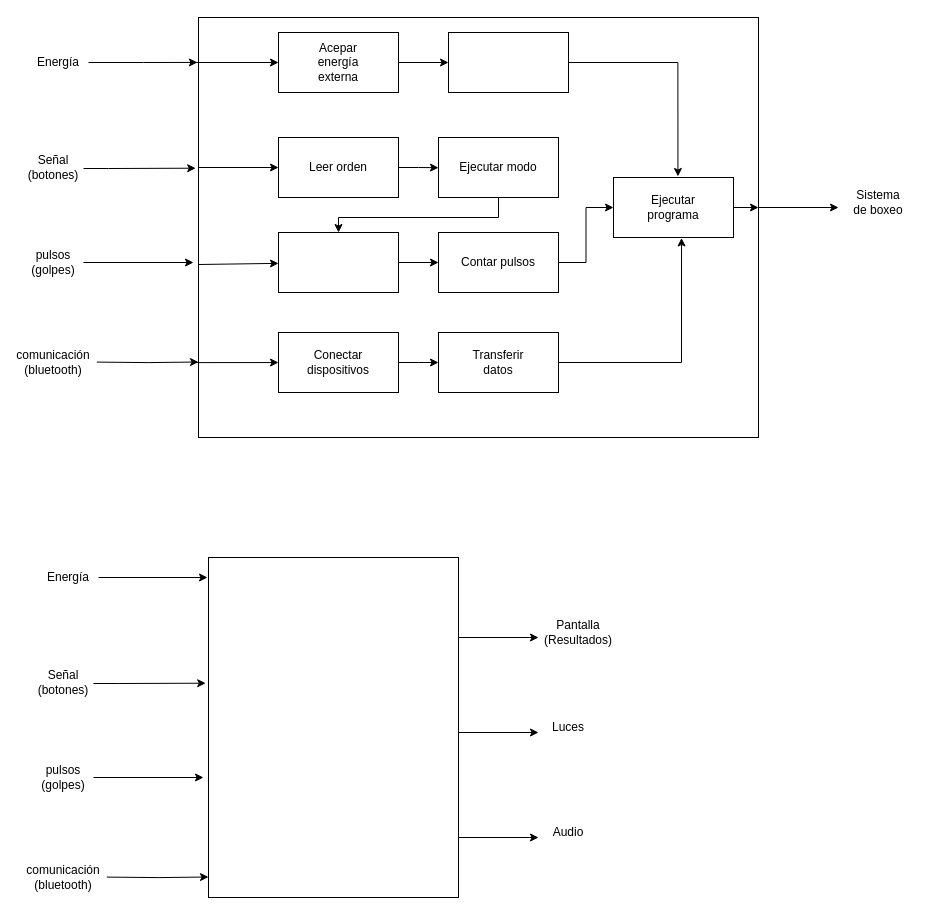
Image size: 926x915. Some labels were removed from this diagram. Each missing label, with the centre of its shape:
"Accionar pulsos" belongs at pixel 338 262.
"Alimentar sistema" belongs at pixel 508 62.
"Maquina de boxeo" belongs at pixel 333 727.
